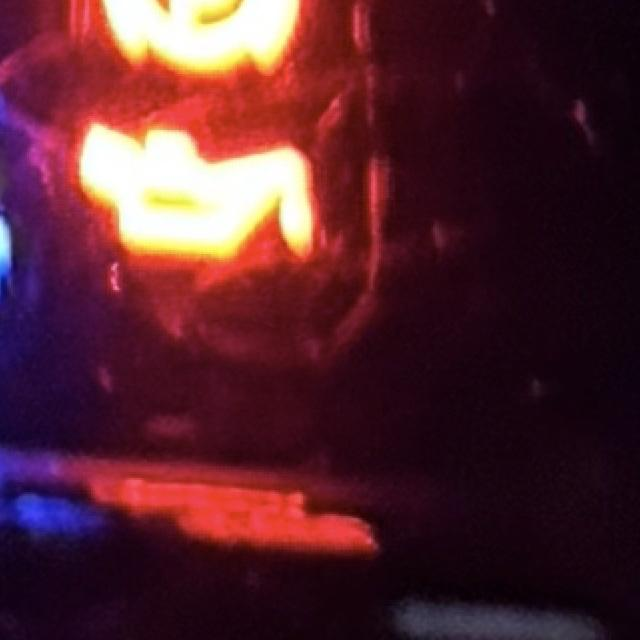Low Oil Pressure Issue: (77, 121, 316, 266)
